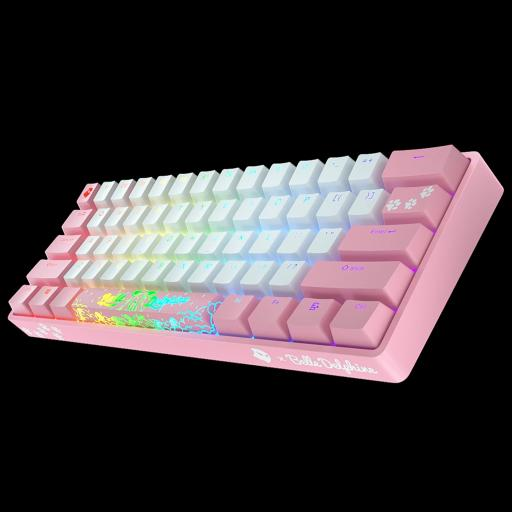keyboard: (6, 153, 482, 381)
